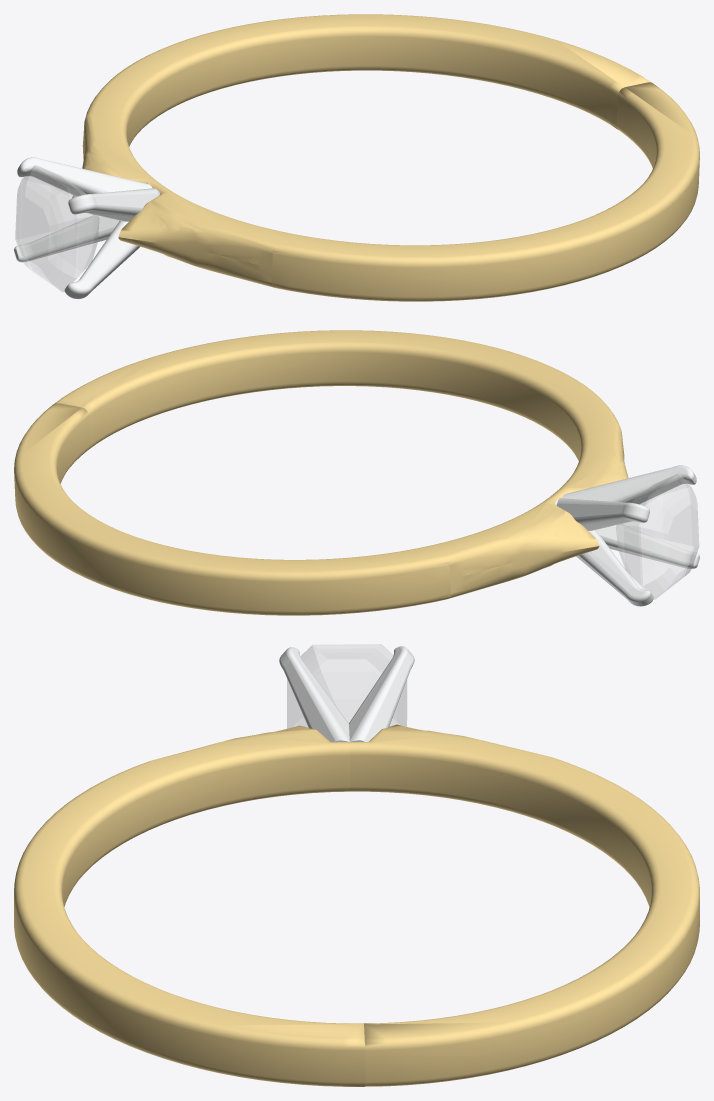
Rendered from enring2.glb.
3 views of the same model, one above another, from view 1: azimuth 30°, elevation 25°; view 2: azimuth 150°, elevation 25°; view 3: azimuth 270°, elevation 25° (orthographic). The views are drawn at different scales.
Parts seen in each view (by area): view 1: [Color G05].001, [Color G05], [Color G05].002, [Color G05].003, [Translucent Glass Blue], Default 150:150:150.001, Default 150:150:150.003, Default 150:150:150, Default 150:150:150.002; view 2: [Color G05], [Color G05].001, [Color G05].003, [Color G05].002, [Translucent Glass Blue], Default 150:150:150, Default 150:150:150.002, Default 150:150:150.001, Default 150:150:150.003; view 3: [Color G05].001, [Color G05], [Color G05].002, [Color G05].003, [Translucent Glass Blue], Default 150:150:150, Default 150:150:150.001.
Part boxes in pixels (bbox=[...]): [Color G05].001: bbox=[118, 82, 699, 282]; [Color G05]: bbox=[72, 14, 651, 197]; [Color G05].002: bbox=[118, 111, 699, 301]; [Color G05].003: bbox=[83, 51, 617, 214]; [Translucent Glass Blue]: bbox=[15, 165, 99, 291]; Default 150:150:150.001: bbox=[17, 157, 152, 196]; Default 150:150:150.003: bbox=[14, 189, 159, 262]; Default 150:150:150: bbox=[68, 188, 158, 221]; Default 150:150:150.002: bbox=[64, 183, 148, 299]; [Color G05]: bbox=[14, 403, 599, 596]; [Color G05].001: bbox=[54, 330, 628, 498]; [Color G05].003: bbox=[14, 431, 599, 615]; [Color G05].002: bbox=[89, 367, 580, 461]; [Translucent Glass Blue]: bbox=[616, 474, 698, 599]; Default 150:150:150: bbox=[562, 465, 696, 504]; Default 150:150:150.002: bbox=[555, 499, 699, 568]; Default 150:150:150.001: bbox=[556, 498, 649, 530]; Default 150:150:150.003: bbox=[565, 493, 653, 606]; [Color G05].001: bbox=[14, 725, 364, 1066]; [Color G05]: bbox=[350, 724, 699, 1066]; [Color G05].002: bbox=[14, 771, 364, 1086]; [Color G05].003: bbox=[350, 771, 699, 1086]; [Translucent Glass Blue]: bbox=[287, 644, 406, 728]; Default 150:150:150: bbox=[279, 647, 349, 742]; Default 150:150:150.001: bbox=[349, 646, 414, 741].
Size of the model in its own units: 10.94 by 1.71 by 9.25.
